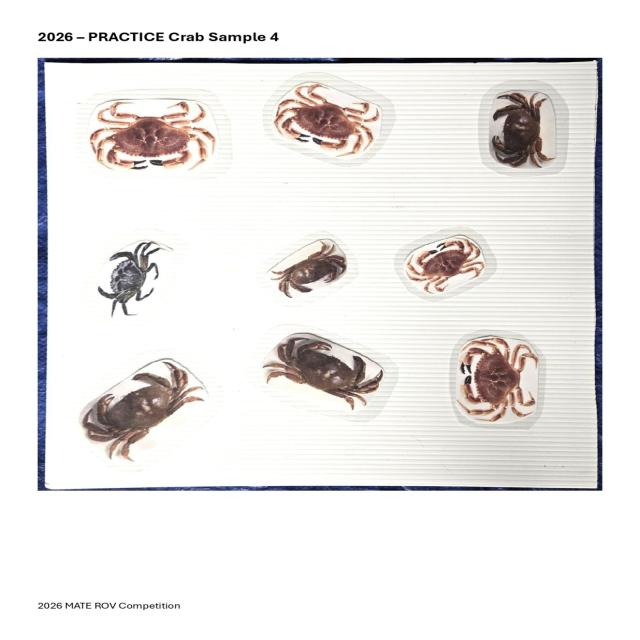egc: (98, 240, 171, 318)
